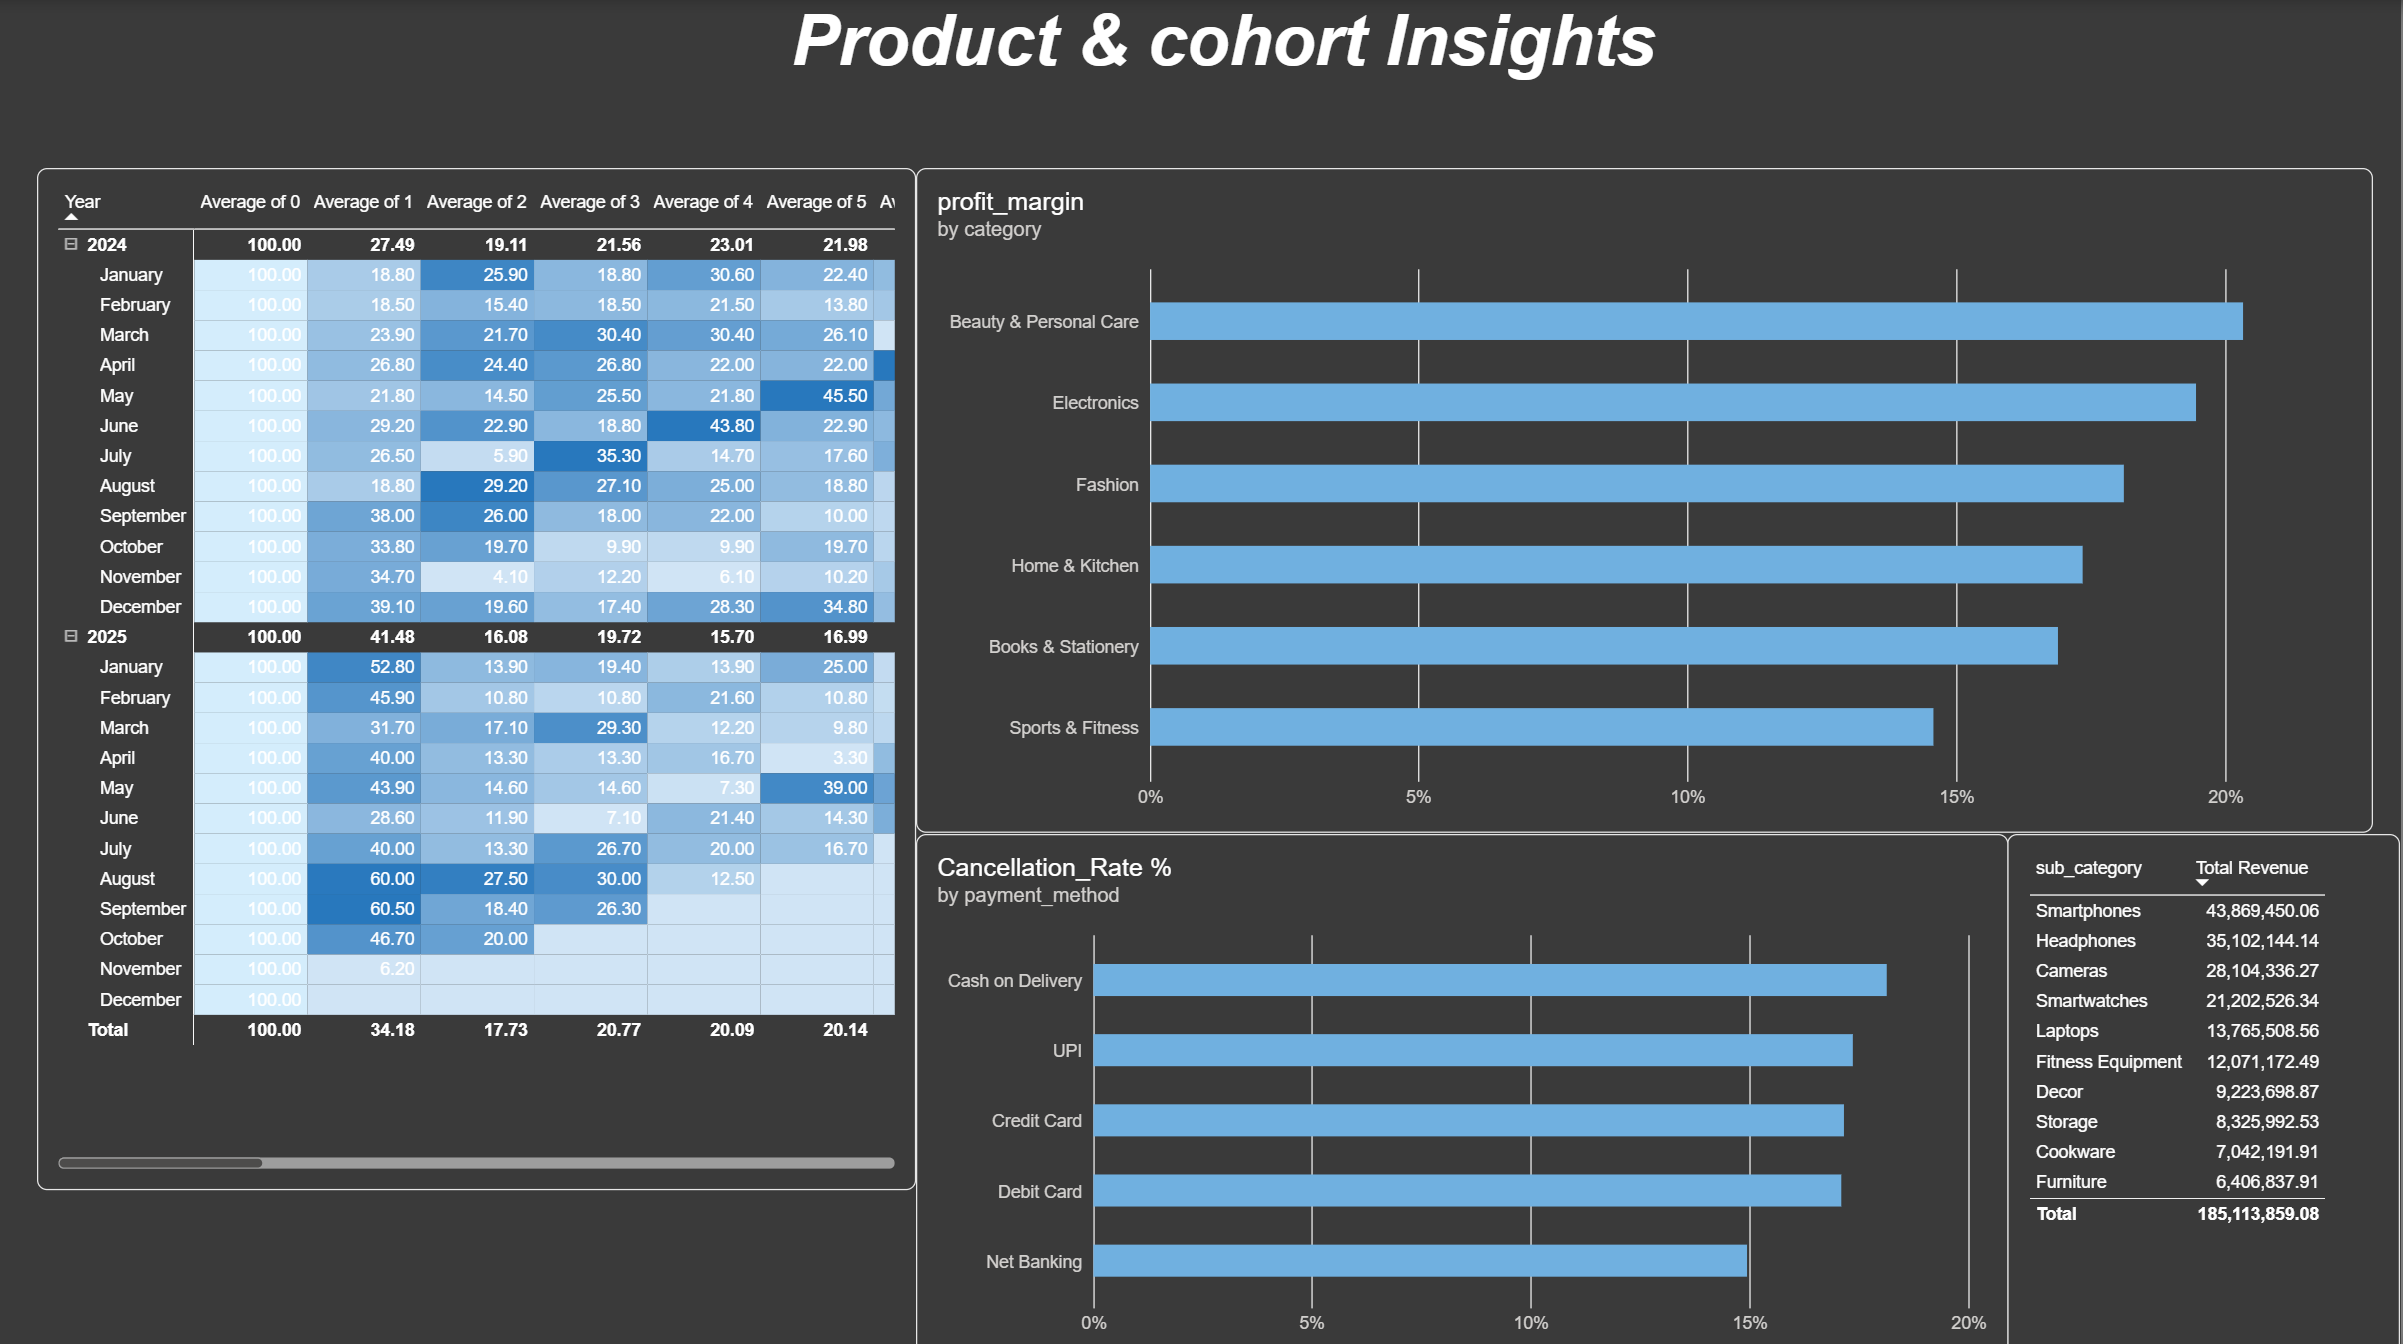

The page's visual inventory and layout, read from the dashboard file:
{"tool":"powerbi","page":{"name":"Product & cohort insights","canvas":[1920,1080],"ordinal":2},"visuals":[{"type":"tableEx","fields":{"Values":["fact_sales.sub_category","fact_sales.Total Revenue"]},"box":[1607.6,661.8,312.4,417.5],"z":0},{"type":"pivotTable","fields":{"Rows":["cohort_retention.cohort_month.Variation.Date Hierarchy.Year","cohort_retention.cohort_month.Variation.Date Hierarchy.Month"],"Values":["Avg(cohort_retention.0)","Avg(cohort_retention.1)","Avg(cohort_retention.2)","Avg(cohort_retention.3)","Avg(cohort_retention.4)","Avg(cohort_retention.5)","Avg(cohort_retention.6)","Avg(cohort_retention.7)","Avg(cohort_retention.8)","Avg(cohort_retention.9)","Avg(cohort_retention.10)","Avg(cohort_retention.11)"]},"box":[39.8,133.5,698.7,812.3],"z":1000},{"type":"clusteredBarChart","fields":{"Category":["fact_sales.category"],"Y":["fact_sales.profit_margin","select"]},"box":[738.5,133.5,1158.8,528.3],"z":2000},{"type":"clusteredBarChart","fields":{"Category":["fact_sales.payment_method"],"Y":["fact_sales.Cancellation_Rate %","select"]},"box":[738.5,661.8,869.1,417.5],"z":3000},{"type":"textbox","box":[99.4,0,1766.6,133.5],"z":4000}]}

Visuals, with their boxes in screenshot pixels (x1, y1, x2, y2), scaled from the page's 1920x1080 canvas onto the 2403x1344 screenshot:
tableEx - fact_sales.sub_category x fact_sales.Total Revenue: {"x1": 2012, "y1": 824, "x2": 2402, "y2": 1343}
pivotTable - cohort_retention.cohort_month.Variation.Date Hierarchy.Year x cohort_retention.cohort_month.Variation.Date Hierarchy.Month: {"x1": 50, "y1": 166, "x2": 924, "y2": 1177}
clusteredBarChart - fact_sales.category x fact_sales.profit_margin: {"x1": 924, "y1": 166, "x2": 2375, "y2": 824}
clusteredBarChart - fact_sales.payment_method x fact_sales.Cancellation_Rate %: {"x1": 924, "y1": 824, "x2": 2012, "y2": 1343}
textbox: {"x1": 124, "y1": 0, "x2": 2335, "y2": 166}
